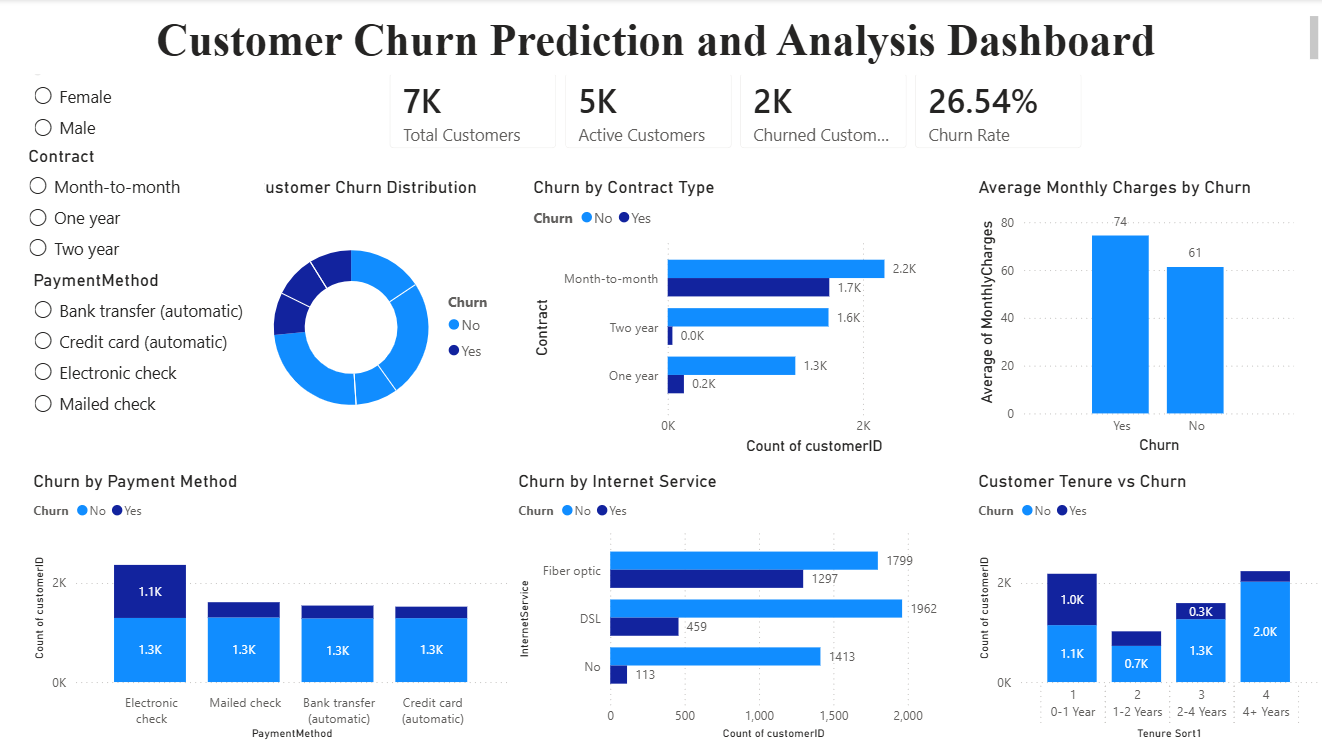

What the dashboard file says about the page in this screenshot:
{"tool":"powerbi","page":{"name":"Page 1","canvas":[1280,720],"ordinal":0},"visuals":[{"type":"donutChart","title":"Customer Churn Distribution","fields":{"Y":["WA_Fn-UseC_-Telco-Customer-Churn.Active Customers","WA_Fn-UseC_-Telco-Customer-Churn.Total Customers","WA_Fn-UseC_-Telco-Customer-Churn.Churned Customers","WA_Fn-UseC_-Telco-Customer-Churn.Churn Rate","CountNonNull(WA_Fn-UseC_-Telco-Customer-Churn.customerID)"],"Category":["WA_Fn-UseC_-Telco-Customer-Churn.Churn"]},"box":[262.9,155.7,254.3,272.9],"z":0},{"type":"clusteredBarChart","title":"Churn by Contract Type","fields":{"Category":["WA_Fn-UseC_-Telco-Customer-Churn.Contract"],"Y":["CountNonNull(WA_Fn-UseC_-Telco-Customer-Churn.customerID)"],"Series":["WA_Fn-UseC_-Telco-Customer-Churn.Churn"]},"box":[514.3,155.7,250,260],"z":1000},{"type":"columnChart","title":"Churn by Payment Method","fields":{"Category":["WA_Fn-UseC_-Telco-Customer-Churn.PaymentMethod"],"Y":["CountNonNull(WA_Fn-UseC_-Telco-Customer-Churn.customerID)"],"Series":["WA_Fn-UseC_-Telco-Customer-Churn.Churn"]},"box":[30,454.3,384.3,265.7],"z":2000},{"type":"clusteredBarChart","title":"Churn by Internet Service","fields":{"Category":["WA_Fn-UseC_-Telco-Customer-Churn.InternetService"],"Y":["CountNonNull(WA_Fn-UseC_-Telco-Customer-Churn.customerID)"],"Series":["WA_Fn-UseC_-Telco-Customer-Churn.Churn"]},"box":[464.3,454.3,430,265.7],"z":3000},{"type":"clusteredColumnChart","title":"Average Monthly Charges by Churn","fields":{"Category":["WA_Fn-UseC_-Telco-Customer-Churn.Churn"],"Y":["Avg(WA_Fn-UseC_-Telco-Customer-Churn.MonthlyCharges)"]},"box":[748.6,155.7,298.6,260],"z":4000},{"type":"columnChart","title":"Customer Tenure vs Churn","fields":{"Category":["WA_Fn-UseC_-Telco-Customer-Churn.Tenure Group","WA_Fn-UseC_-Telco-Customer-Churn.Tenure Sort1"],"Y":["CountNonNull(WA_Fn-UseC_-Telco-Customer-Churn.customerID)"],"Series":["WA_Fn-UseC_-Telco-Customer-Churn.Churn"]},"box":[981.4,454.3,298.6,265.7],"z":5000},{"type":"cardVisual","fields":{"Data":["WA_Fn-UseC_-Telco-Customer-Churn.Total Customers"]},"box":[258.6,38.6,187.1,104.3],"z":6000},{"type":"cardVisual","fields":{"Data":["WA_Fn-UseC_-Telco-Customer-Churn.Churned Customers"]},"box":[445.7,37.1,211.4,105.7],"z":7000},{"type":"cardVisual","fields":{"Data":["WA_Fn-UseC_-Telco-Customer-Churn.Active Customers"]},"box":[657.1,37.1,192.9,105.7],"z":8000},{"type":"cardVisual","fields":{"Data":["WA_Fn-UseC_-Telco-Customer-Churn.Churn Rate"]},"box":[864.3,40,182.9,104.3],"z":9000},{"type":"textbox","box":[180,0,998,48],"z":10000},{"type":"listSlicer","fields":{"Values":["WA_Fn-UseC_-Telco-Customer-Churn.gender"]},"box":[30,54.3,178.6,90],"z":11000},{"type":"listSlicer","fields":{"Values":["WA_Fn-UseC_-Telco-Customer-Churn.Contract"]},"box":[25.7,141.4,232.9,118.6],"z":12000},{"type":"listSlicer","fields":{"Values":["WA_Fn-UseC_-Telco-Customer-Churn.PaymentMethod"]},"box":[30,260,232.9,150],"z":13000},{"type":"textbox","box":[1047.1,150,232.9,285.7],"z":14000}]}

Visuals, with their boxes in screenshot pixels (x1, y1, x2, y2), scaled from the page's 1280x720 canvas onto the 1322x743 screenshot:
"Customer Churn Distribution" donutChart: left=272, top=161, right=534, bottom=442
"Churn by Contract Type" clusteredBarChart: left=531, top=161, right=789, bottom=429
"Churn by Payment Method" columnChart: left=31, top=469, right=428, bottom=742
"Churn by Internet Service" clusteredBarChart: left=480, top=469, right=924, bottom=742
"Average Monthly Charges by Churn" clusteredColumnChart: left=773, top=161, right=1082, bottom=429
"Customer Tenure vs Churn" columnChart: left=1014, top=469, right=1321, bottom=742
cardVisual - WA_Fn-UseC_-Telco-Customer-Churn.Total Customers: left=267, top=40, right=460, bottom=147
cardVisual - WA_Fn-UseC_-Telco-Customer-Churn.Churned Customers: left=460, top=38, right=679, bottom=147
cardVisual - WA_Fn-UseC_-Telco-Customer-Churn.Active Customers: left=679, top=38, right=878, bottom=147
cardVisual - WA_Fn-UseC_-Telco-Customer-Churn.Churn Rate: left=893, top=41, right=1082, bottom=149
textbox: left=186, top=0, right=1217, bottom=50
listSlicer - WA_Fn-UseC_-Telco-Customer-Churn.gender: left=31, top=56, right=215, bottom=149
listSlicer - WA_Fn-UseC_-Telco-Customer-Churn.Contract: left=27, top=146, right=267, bottom=268
listSlicer - WA_Fn-UseC_-Telco-Customer-Churn.PaymentMethod: left=31, top=268, right=272, bottom=423
textbox: left=1081, top=155, right=1321, bottom=450
